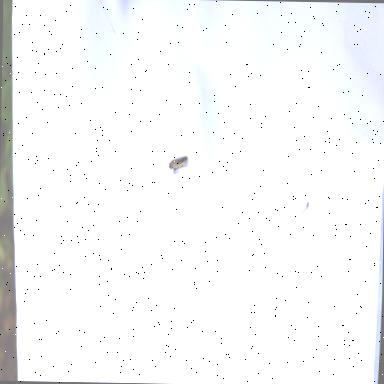pbw: (163, 156, 188, 178)
